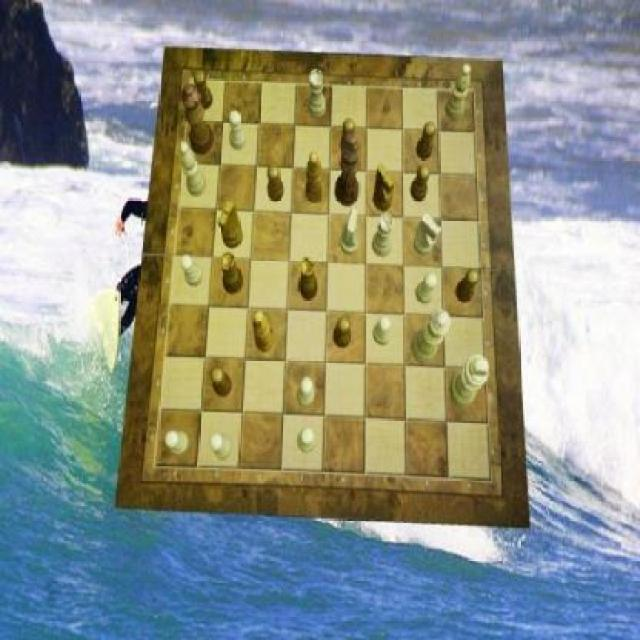bishop: (304, 152, 324, 203), (252, 311, 275, 353)
black-bishop: (334, 132, 361, 207)
black-king: (219, 200, 243, 249), (374, 165, 394, 212)
black-knight: (457, 269, 480, 303), (417, 122, 437, 160), (194, 71, 213, 111), (411, 166, 430, 202), (210, 366, 232, 397), (340, 119, 357, 156), (268, 166, 284, 202), (334, 317, 351, 349)
black-pawn: (182, 85, 214, 157)
black-queen: (220, 251, 243, 293), (298, 257, 318, 299)
black-rook: (180, 142, 207, 196), (446, 64, 471, 120)
white-bishop: (449, 354, 489, 408)
white-king: (414, 214, 441, 256), (340, 209, 360, 257)
white-knight: (180, 255, 203, 288), (415, 274, 438, 304), (229, 111, 246, 151), (166, 431, 191, 456), (210, 434, 232, 460), (297, 377, 315, 408), (297, 428, 316, 454), (374, 317, 391, 346)
white-pawn: (411, 309, 451, 364)
white-queen: (372, 214, 395, 258), (308, 70, 325, 119)
